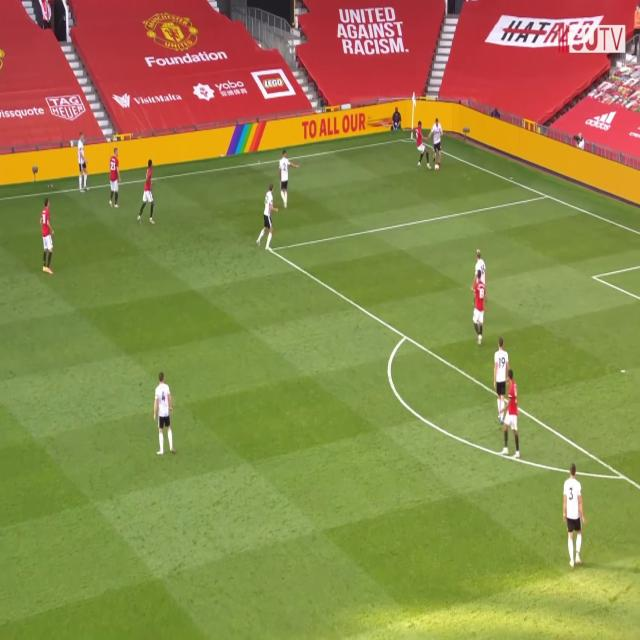ball: (435, 163, 439, 172)
team1: (502, 371, 521, 463), (138, 157, 160, 225), (470, 272, 487, 346), (42, 198, 58, 275), (413, 119, 429, 168), (109, 148, 122, 207)
team2: (563, 466, 586, 571), (152, 372, 176, 458), (256, 185, 279, 252), (492, 336, 510, 420), (280, 149, 298, 210), (75, 134, 88, 192), (432, 119, 444, 168), (474, 244, 484, 278)
